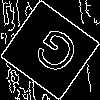G: (25, 25, 83, 85)
